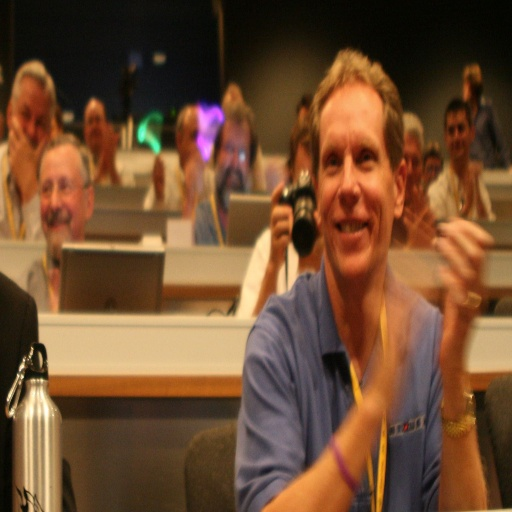hand: (424, 179, 494, 358), (364, 255, 418, 401), (7, 113, 47, 192), (270, 178, 292, 263), (407, 203, 435, 252), (102, 121, 121, 171), (410, 179, 430, 223), (151, 155, 165, 199), (462, 163, 475, 199), (314, 205, 322, 261), (97, 152, 108, 179), (475, 157, 483, 191)
